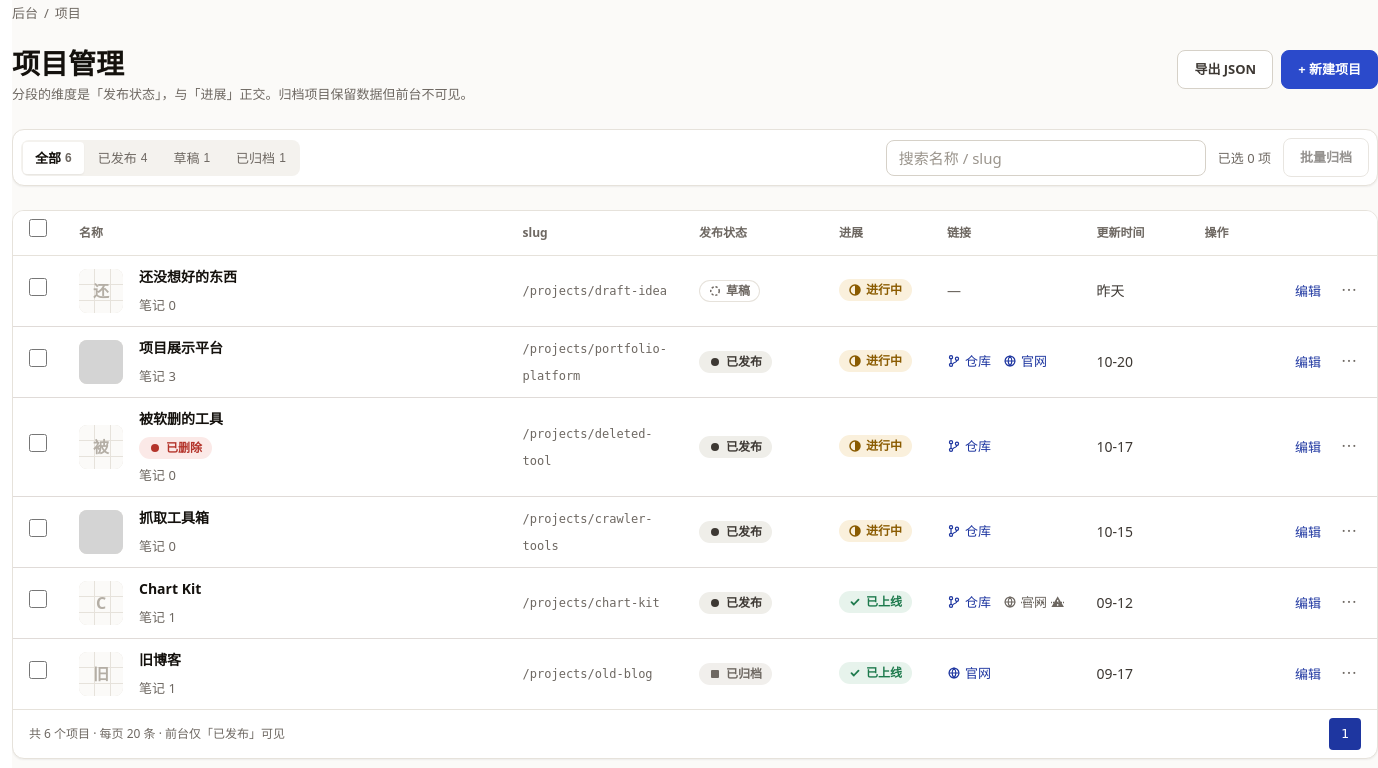
Test case: ProjectListView › 批量归档跳过已归档项：不发请求，且跳过项从选择集摘掉（选择集 = 未完成项）
Expected: the link "旧博客" is shown, [139,646,181,672]
// 旧博客种子就是 archived，勾它 + 一个已发布项
Click the checkbox named "选择 旧博客".
click(38, 670)  # box [29,660,47,678]
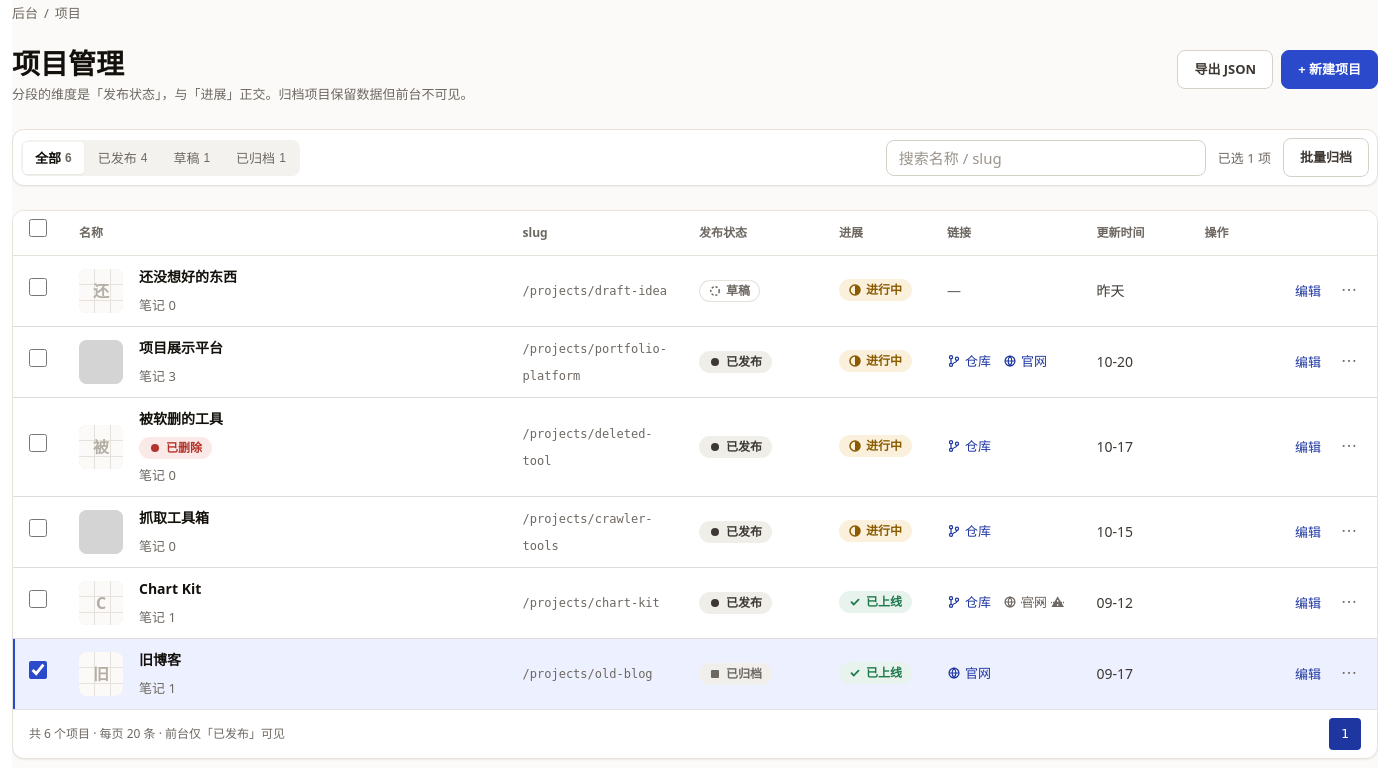
Click the checkbox named "选择 项目展示平台".
click(38, 358)  # box [29,348,47,366]
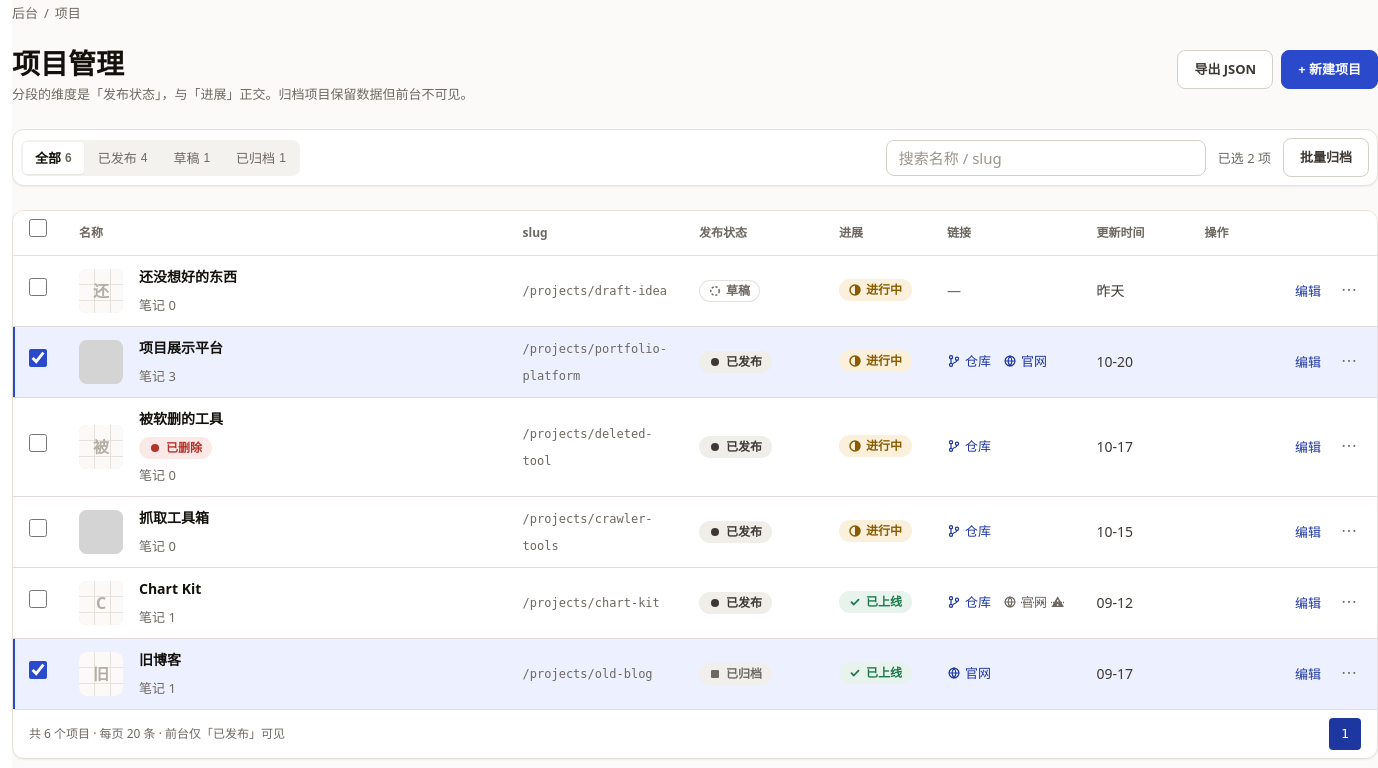
Click the button "批量归档".
click(1326, 158)  # box [1283,138,1369,177]
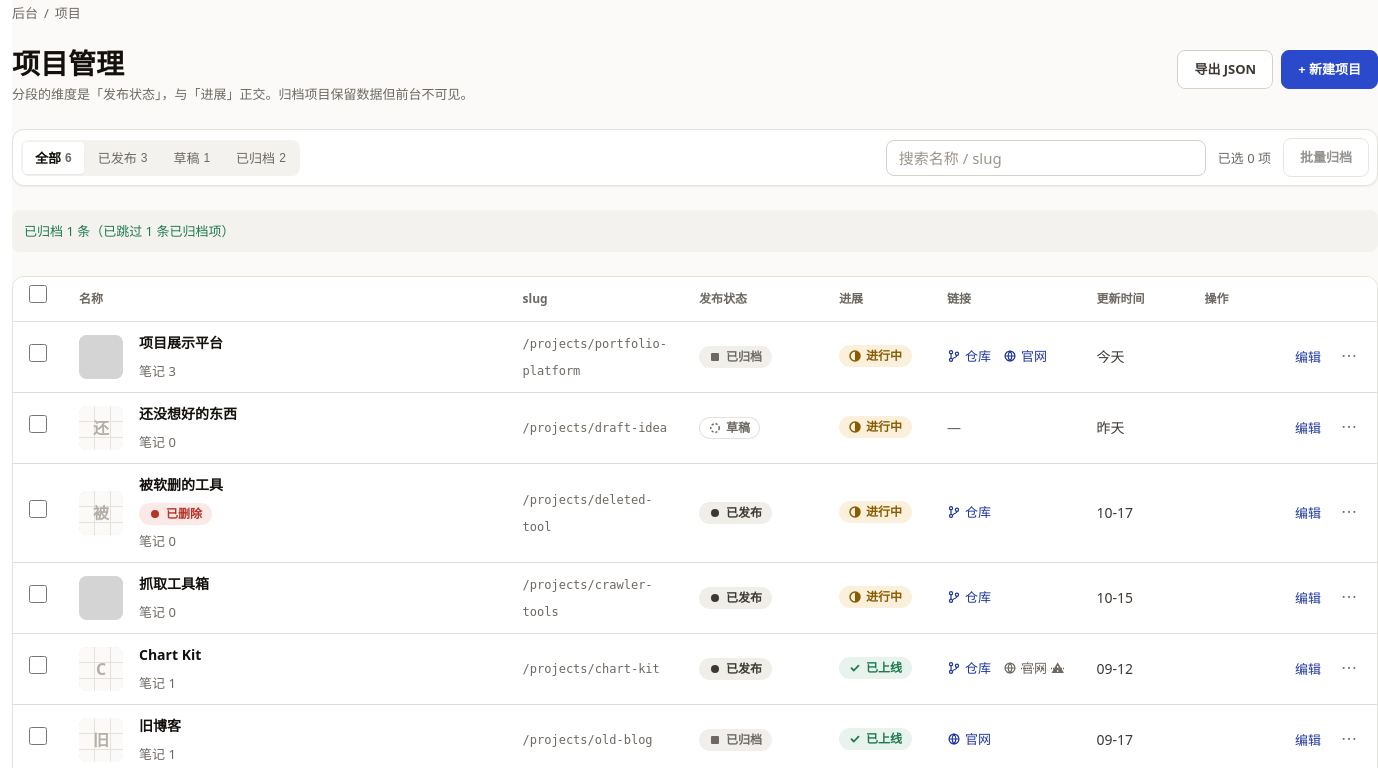
Expected: the text "已归档 1 条（已跳过 1 条已归档项）" is shown, [12,210,1377,252]
Expected: the text "已选 0 项" is shown, [1218,144,1271,170]
